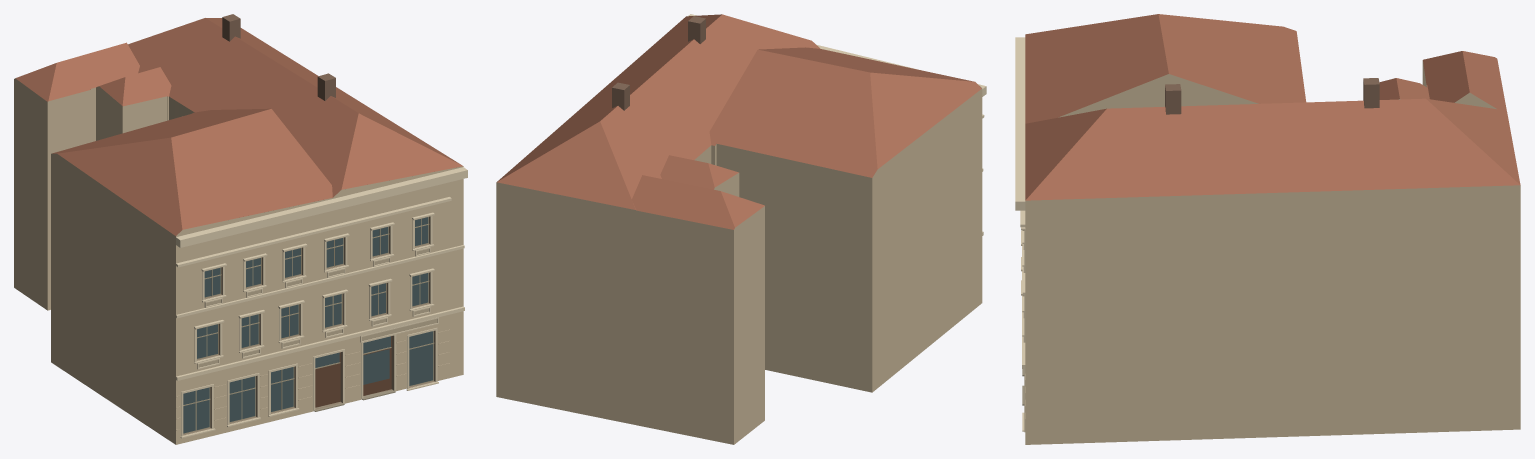
The model's file is 267-gpt-pruceli-v1.glb.
3 views of the same model, side by side, from view 1: azimuth 30°, elevation 25°; view 2: azimuth 150°, elevation 25°; view 3: azimuth 270°, elevation 25° (orthographic). The views are drawn at different scales.
Parts seen in each view (by area): view 1: Pruceli, Strecha, Hmota, Stresni_prvky; view 2: Hmota, Strecha, Stresni_prvky; view 3: Hmota, Strecha, Pruceli, Stresni_prvky.
Boxes of the visible parts, bbox=[...] form: Pruceli: bbox=[176, 166, 467, 444]; Strecha: bbox=[15, 18, 463, 235]; Hmota: bbox=[14, 78, 194, 444]; Stresni_prvky: bbox=[222, 14, 335, 100]; Hmota: bbox=[496, 89, 982, 444]; Strecha: bbox=[497, 14, 981, 229]; Stresni_prvky: bbox=[612, 16, 705, 110]; Hmota: bbox=[1025, 60, 1520, 444]; Strecha: bbox=[1025, 14, 1520, 200]; Pruceli: bbox=[1015, 37, 1025, 432]; Stresni_prvky: bbox=[1165, 78, 1379, 114].
Bounding box in the file's own units: 18.15 × 15.87 × 22.86.
